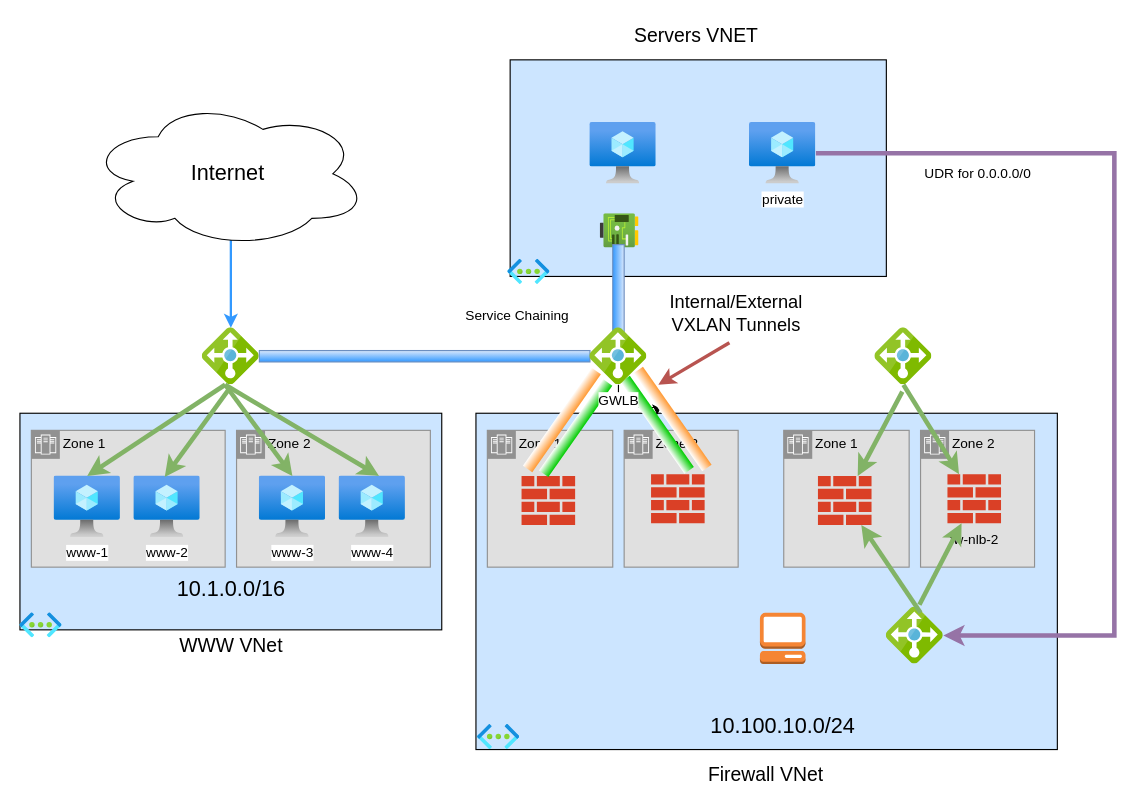
Some shapes in this 1146 by 812 pixel diagram are drawn without their labels. Here are the shapes that lost their labels. From the top down, the centre of each, then its label:
At point (622, 153): "public".
At point (902, 355): "ELB".
At point (548, 499): "fw-1".
At point (677, 498): "fw-2".
At point (844, 499): "fw-nlb-1".
At point (782, 638): "FMC".
At point (914, 634): "ILB".
